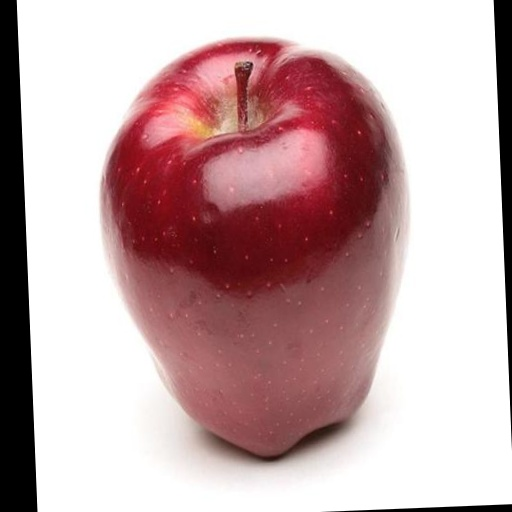fruit: (101, 40, 407, 456)
